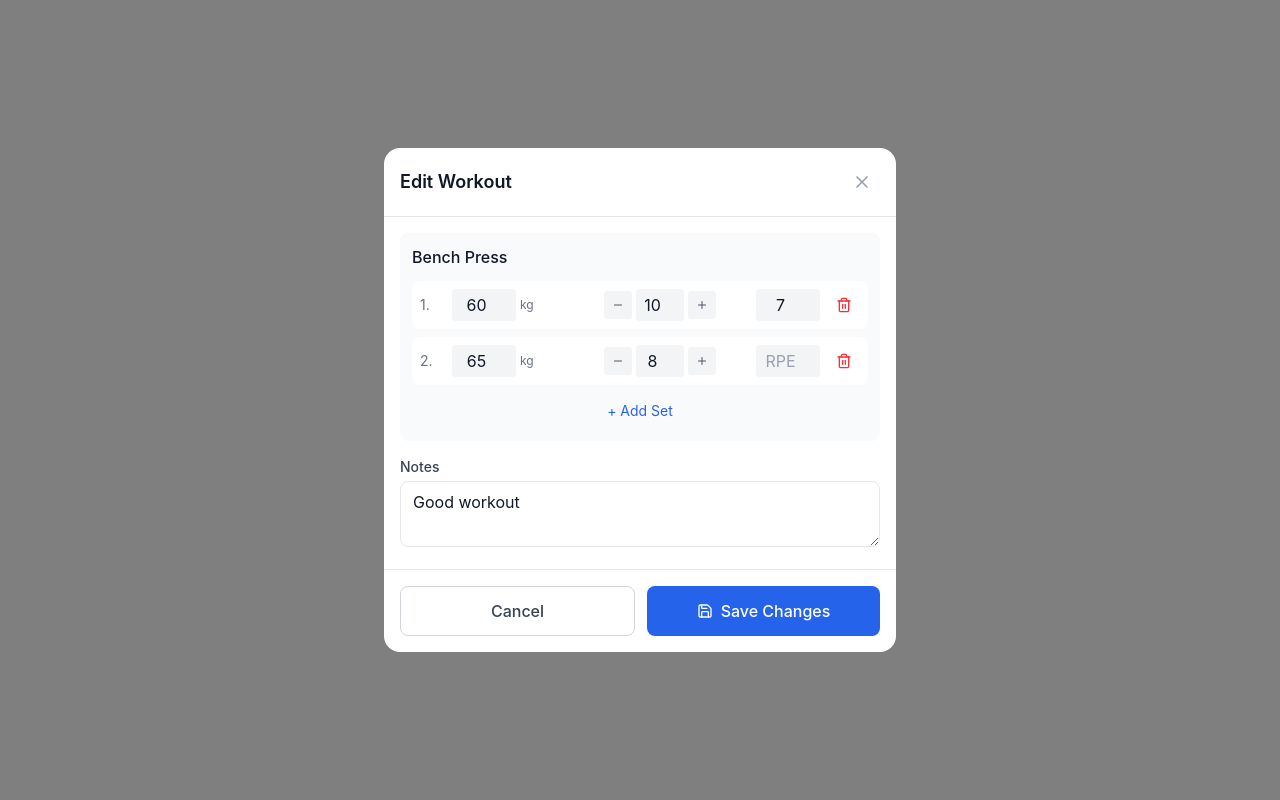
Scenario: EditWorkoutModal › should update set reps when + button is clicked
What coordinates should you click on to do the following:
click the 1st button named "Increase reps"
I would click on:
 (702, 305)
Its box is left=688, top=291, right=716, bottom=319.
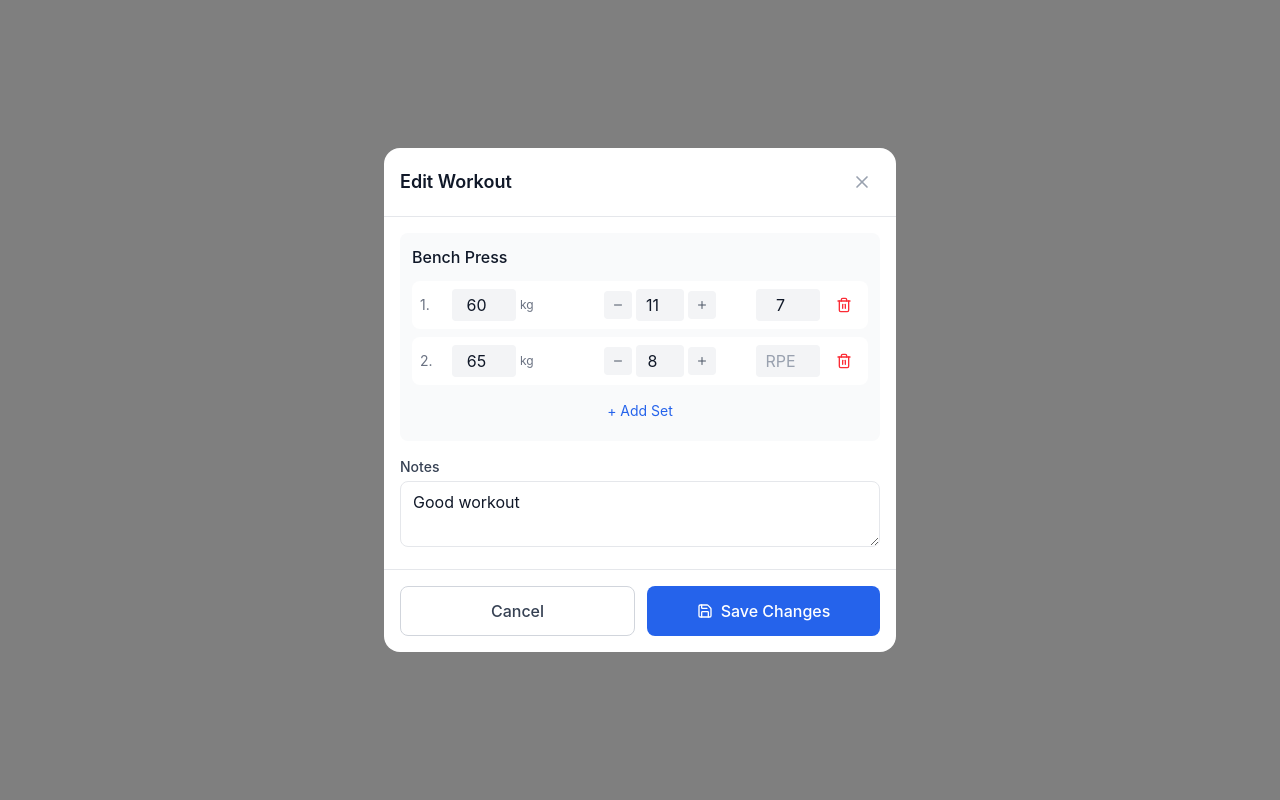
Expected: the 2nd number field showing "11" is shown, left=636, top=289, right=684, bottom=321
